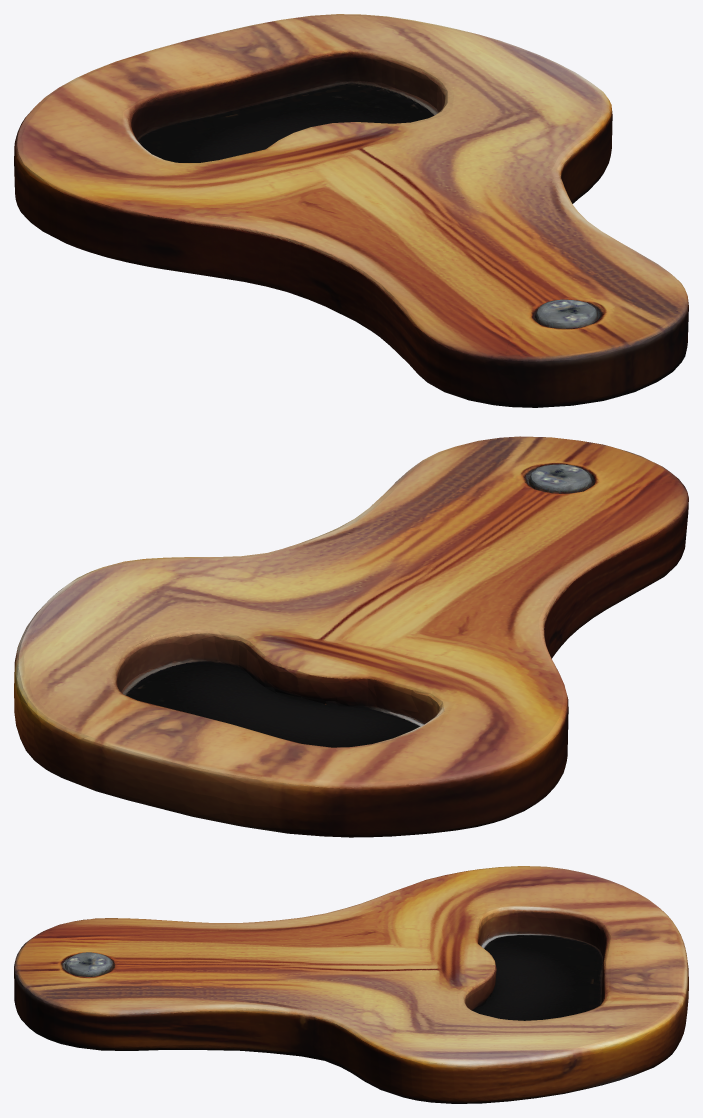
File: wooden-bottle-opener-rustic.jpeg.glb
3 renders of one model, top to bottom at view 1: azimuth 30°, elevation 25°; view 2: azimuth 150°, elevation 25°; view 3: azimuth 270°, elevation 25°, orthographic. The views are drawn at different scales.
Visible parts, largest first — view 1: world; view 2: world; view 3: world.
Boxes of the visible parts, box(x1,y1,x2,y2) form: world: box(14, 14, 688, 407); world: box(14, 436, 688, 837); world: box(14, 866, 688, 1103).
Bounding box in the file's own units: 0.6997 × 0.0799 × 1.
1 material, 1 textured.
